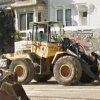Tractor: (14, 29, 93, 90)
